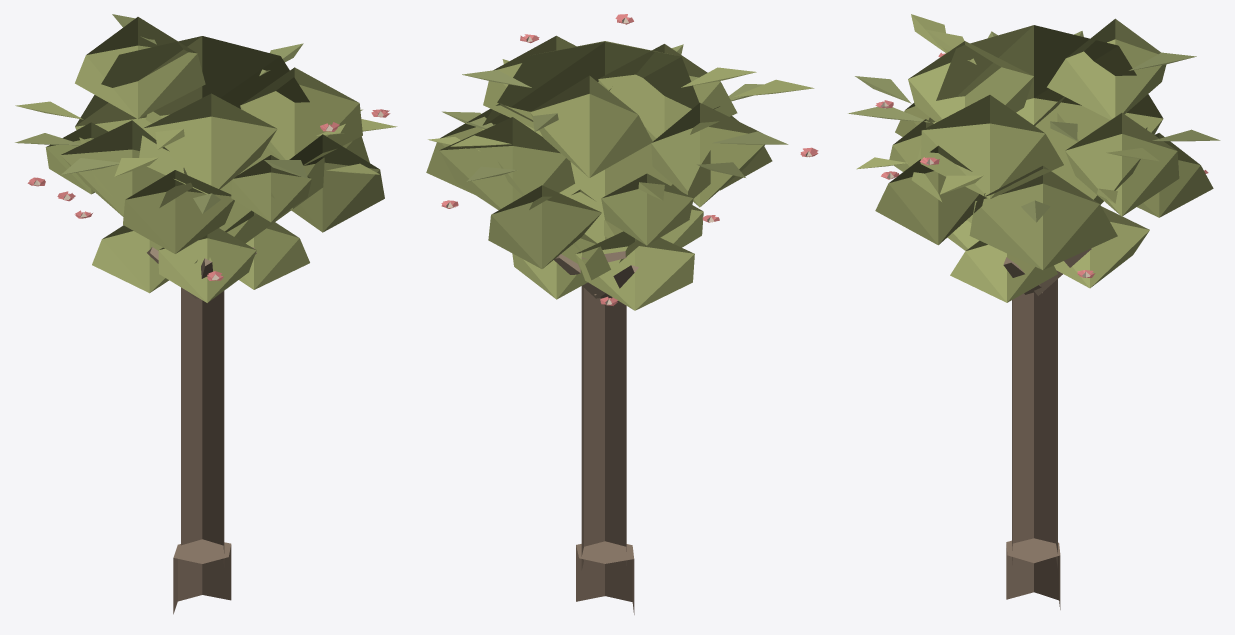
Rendered from shu.mumian@flowering__autumn.glb.
3 views of the same model, side by side, from view 1: azimuth 30°, elevation 25°; view 2: azimuth 150°, elevation 25°; view 3: azimuth 270°, elevation 25° (orthographic).
Parts seen in each view (by area): view 1: shu.mumian@flowering__autumn; view 2: shu.mumian@flowering__autumn; view 3: shu.mumian@flowering__autumn.
Part boxes in pixels (bbox=[...]): shu.mumian@flowering__autumn: bbox=[15, 14, 397, 614]; shu.mumian@flowering__autumn: bbox=[426, 14, 818, 614]; shu.mumian@flowering__autumn: bbox=[848, 14, 1220, 609].
Size of the model in its own units: 18.53 by 30.34 by 17.84.
